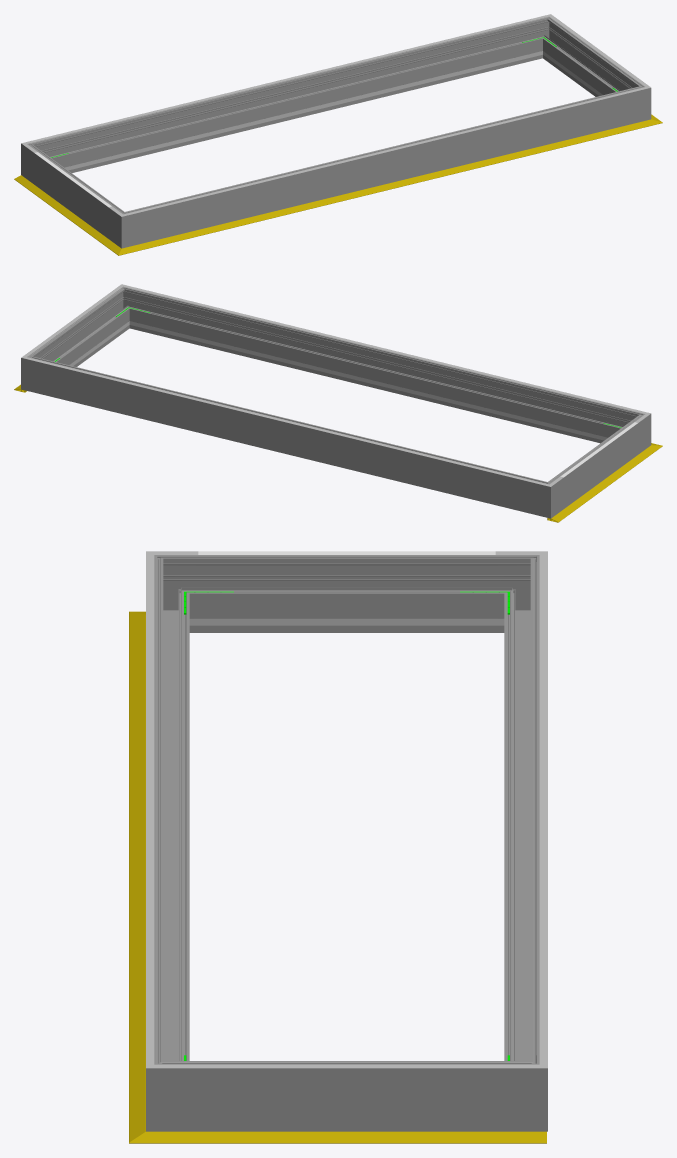
3 renders of one model, top to bottom at view 1: azimuth 30°, elevation 25°; view 2: azimuth 150°, elevation 25°; view 3: azimuth 270°, elevation 25°, orthographic. The views are drawn at different scales.
Parts seen in each view (by area): view 1: 3DGeom-276, 3DGeom-298, 3DGeom-28, 3DGeom-297, 3DGeom-268, 3DGeom-244, 3DGeom-316, 3DGeom-304, 3DGeom-270, 3DGeom-38, 3DGeom-290, 3DGeom-284 (+1 smaller); view 2: 3DGeom-298, 3DGeom-276, 3DGeom-297, 3DGeom-268, 3DGeom-239, 3DGeom-316, 3DGeom-304, 3DGeom-278, 3DGeom-38, 3DGeom-284, 3DGeom-290, 3DGeom-270; view 3: 3DGeom-268, 3DGeom-297, 3DGeom-298, 3DGeom-276, 3DGeom-28, 3DGeom-30, 3DGeom-304, 3DGeom-316, 3DGeom-284, 3DGeom-290, 3DGeom-278, 3DGeom-270 (+4 smaller).
Boxes of the visible parts, x1,y1,x2,y2 form: 3DGeom-276: (46, 21, 538, 172); 3DGeom-298: (140, 90, 628, 242); 3DGeom-28: (137, 123, 640, 250); 3DGeom-297: (545, 24, 634, 96); 3DGeom-268: (34, 151, 115, 238); 3DGeom-244: (72, 56, 520, 169); 3DGeom-316: (142, 91, 628, 211); 3DGeom-304: (44, 20, 529, 139); 3DGeom-270: (108, 205, 144, 248); 3DGeom-38: (14, 175, 112, 245); 3DGeom-290: (624, 79, 651, 124); 3DGeom-284: (530, 16, 560, 59); 3DGeom-298: (133, 291, 626, 443); 3DGeom-276: (43, 360, 531, 512); 3DGeom-297: (38, 294, 127, 366); 3DGeom-268: (557, 421, 638, 508); 3DGeom-239: (151, 326, 599, 439); 3DGeom-316: (142, 290, 627, 409); 3DGeom-304: (44, 362, 529, 481); 3DGeom-278: (528, 475, 563, 518); 3DGeom-38: (547, 451, 649, 522); 3DGeom-284: (21, 349, 47, 394); 3DGeom-290: (112, 286, 141, 329); 3DGeom-270: (617, 409, 651, 454); 3DGeom-268: (198, 555, 495, 632); 3DGeom-297: (198, 1061, 495, 1131); 3DGeom-298: (154, 573, 189, 1060); 3DGeom-276: (504, 573, 539, 1060); 3DGeom-28: (129, 629, 145, 1120); 3DGeom-30: (181, 1131, 546, 1143); 3DGeom-304: (539, 573, 547, 1046); 3DGeom-316: (146, 573, 154, 1046); 3DGeom-284: (495, 1046, 547, 1131); 3DGeom-290: (146, 1046, 198, 1131); 3DGeom-278: (495, 555, 539, 632); 3DGeom-270: (154, 555, 198, 632).
Size of the model in its own units: 3.66 by 0.2195 by 1.22.
